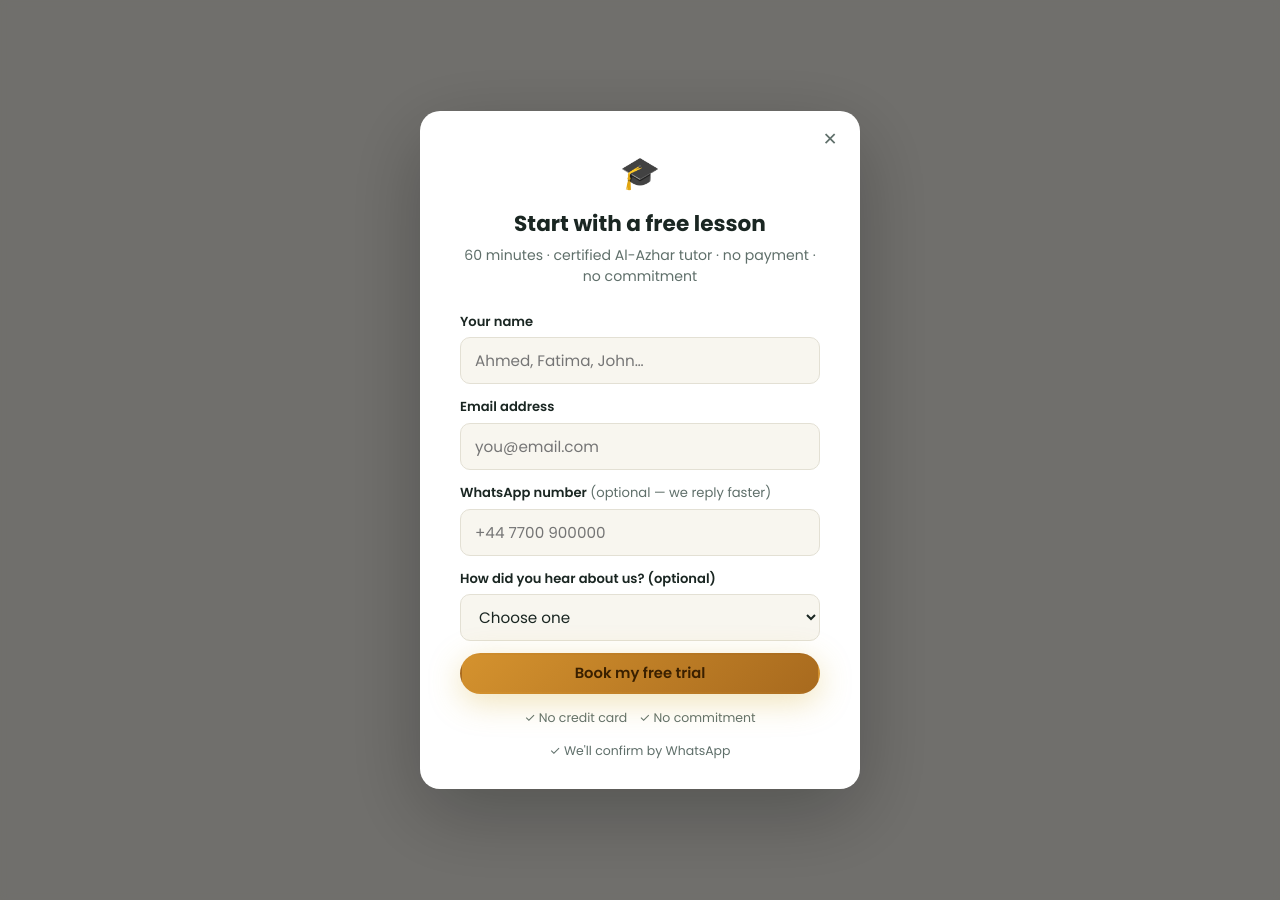
Test: QuickTrialModal › shows no follow-up when the request fails
Type "عائشة O'Brien & Co" into the field labelled "Your name" at (640, 361), box [460,338,820,384]
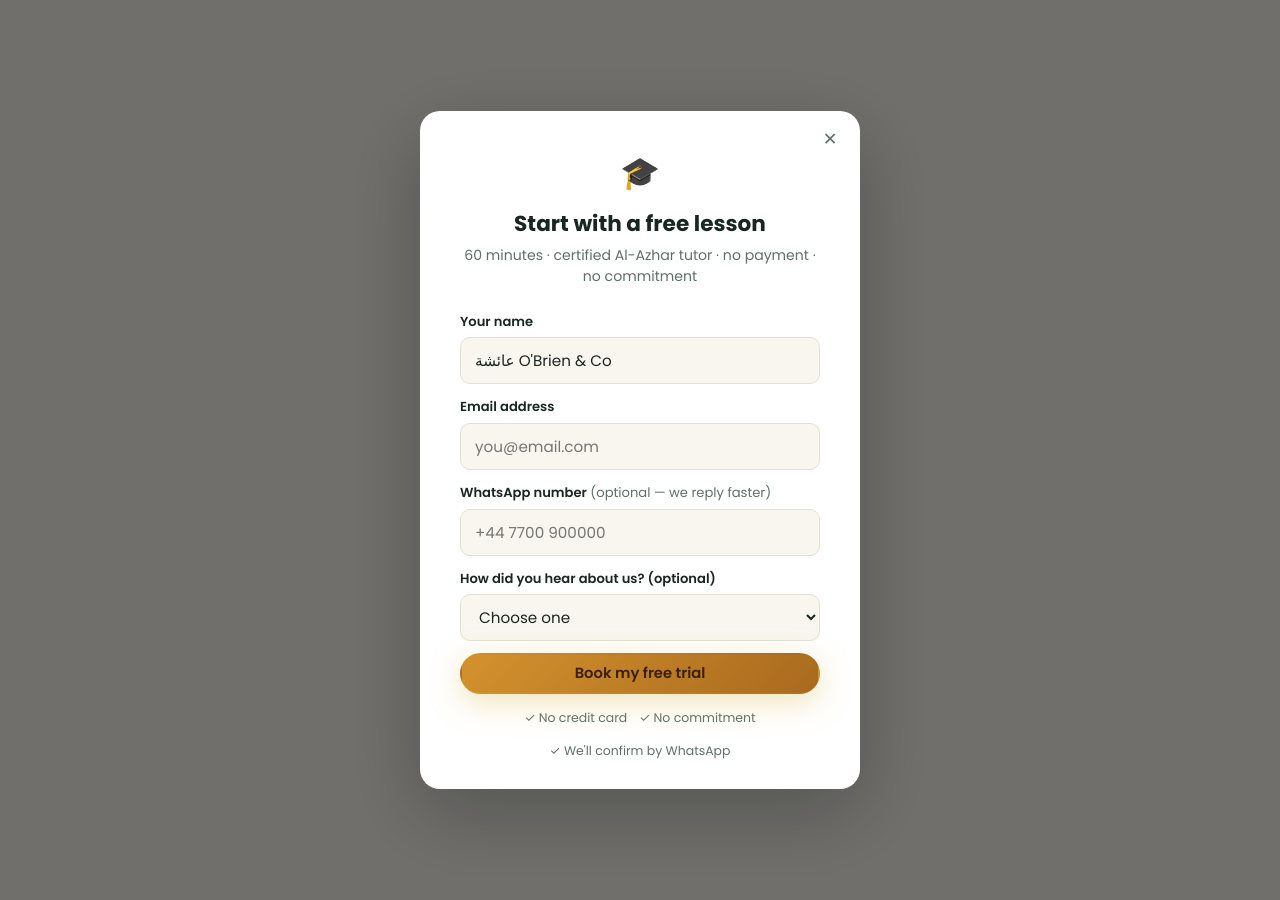
Type "aisha+trial@example.com" into the field labelled "Email address" at (640, 447), box [460,423,820,470]
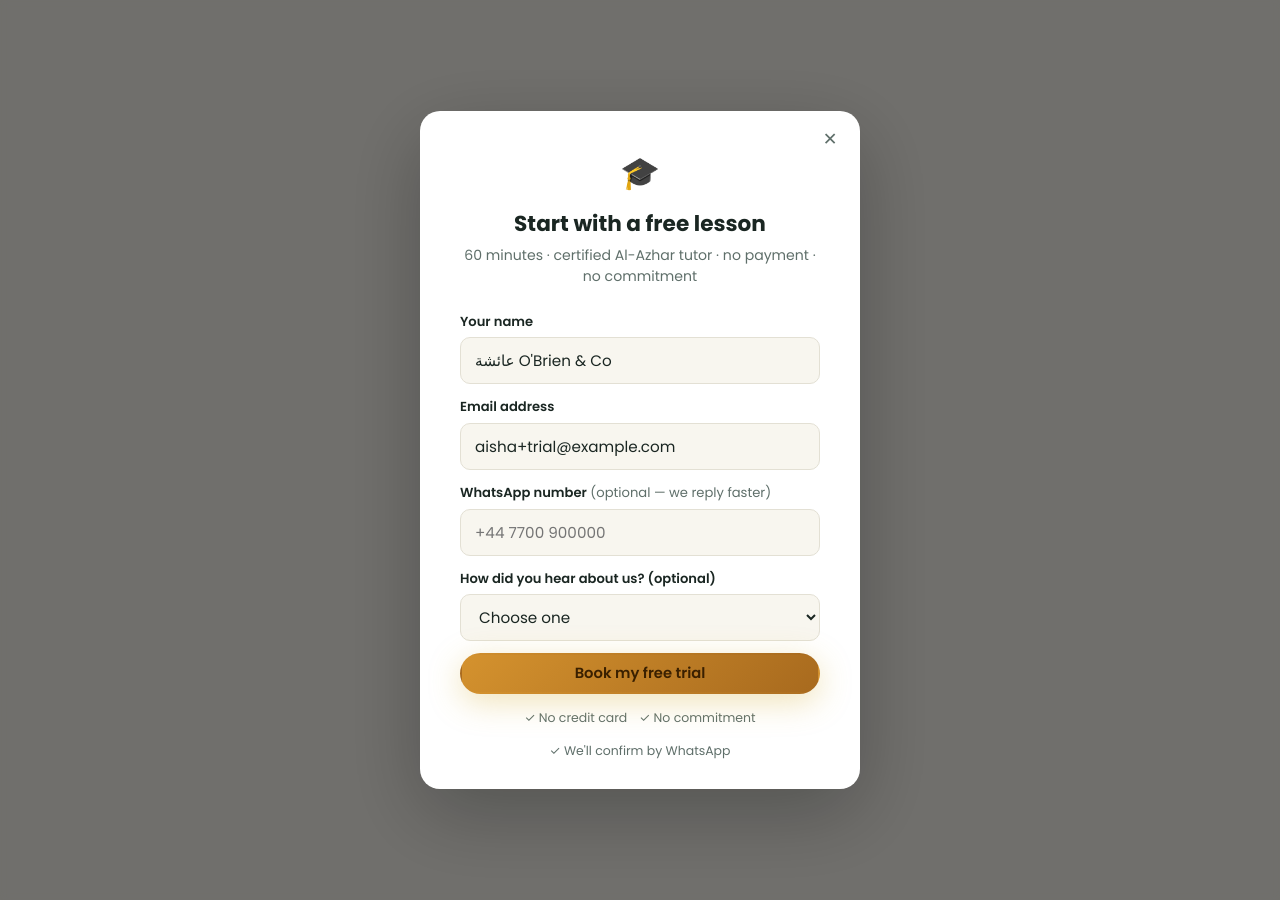
Type "+39 333 123 4567" into the field labelled "WhatsApp number (optional — we reply faster)" at (640, 532), box [460,509,820,556]
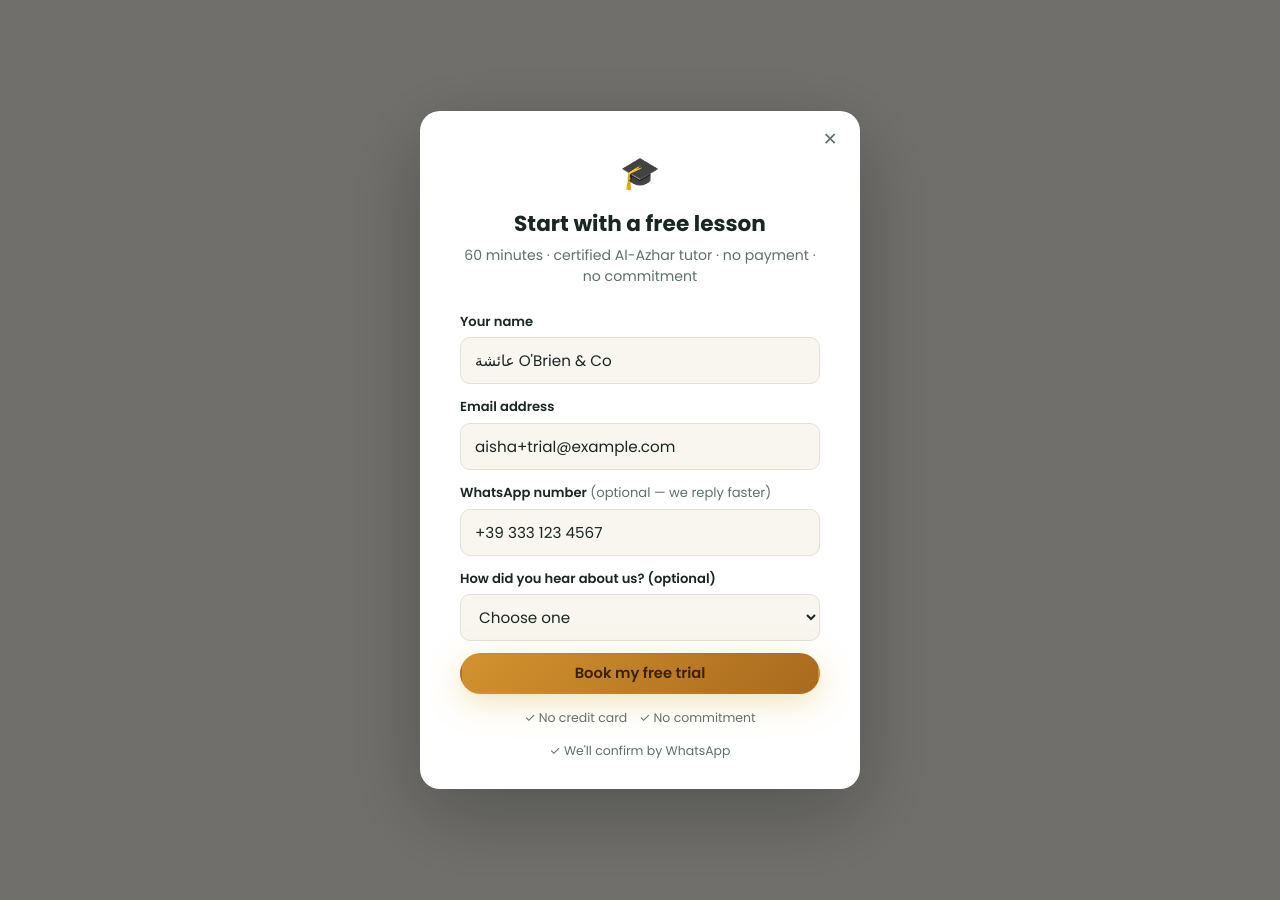
Click the button "Book my free trial" at (640, 674), box [460,653,820,694]
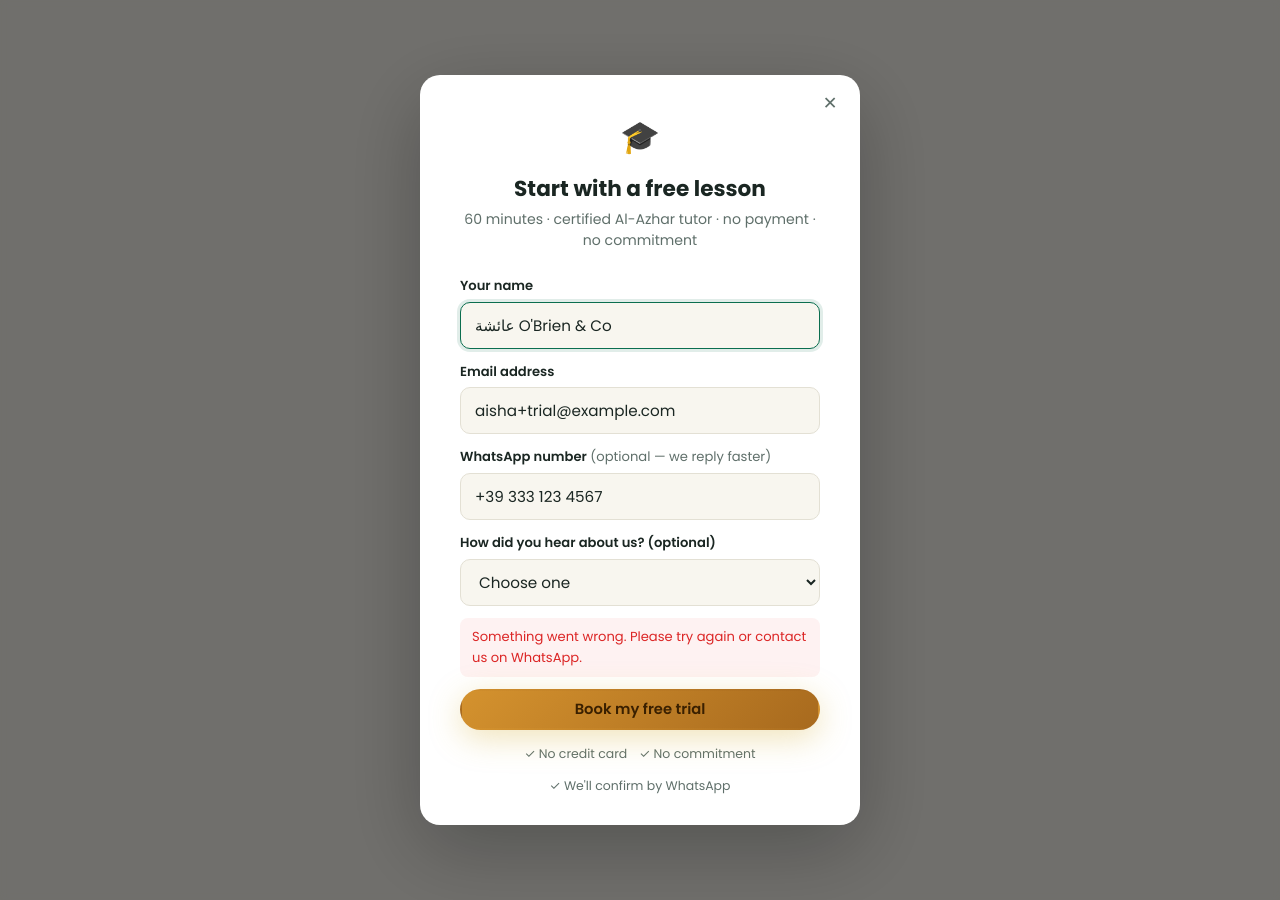
Expected: the text "Something went wrong. Please try again or contact us on WhatsApp." is shown, [460,618,820,677]
